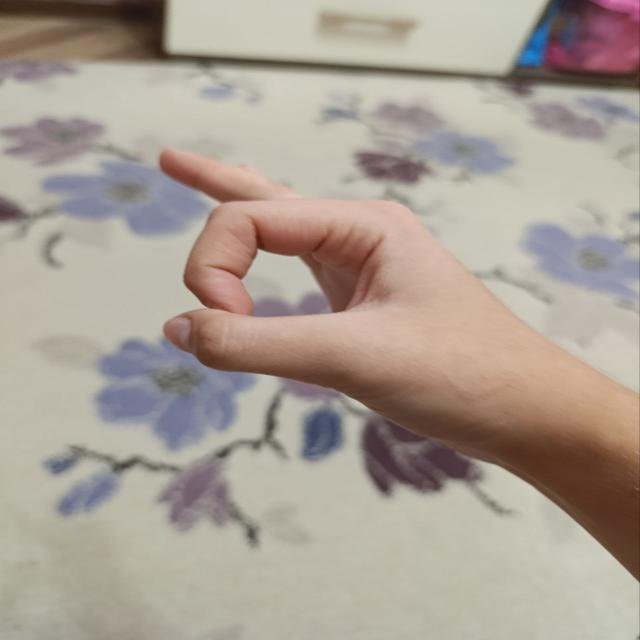o: (104, 95, 471, 445)
